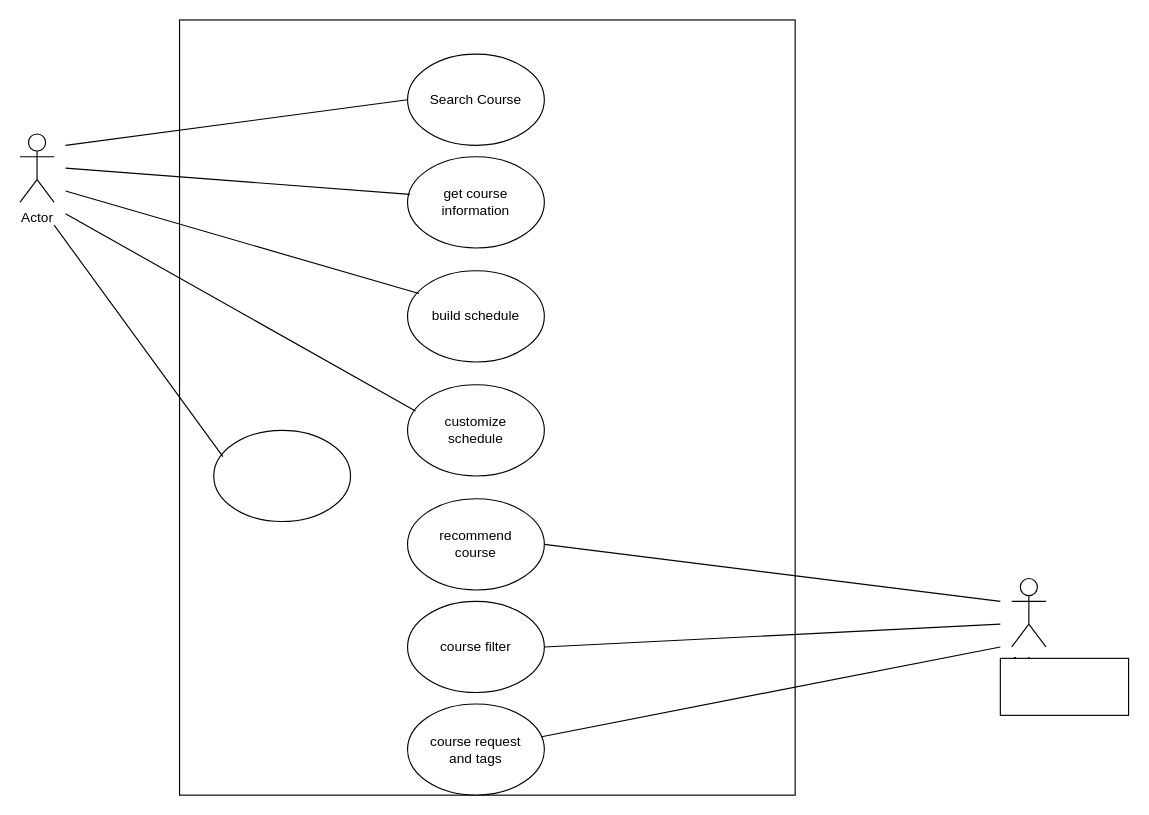
The diagram is 1149 pixels wide and 815 high, and some of its shapes have lost their labels. The centre of each missing label's shape, as x and y in pixels:
get recommendation: point (282, 475)
Recommdation System: point (1064, 686)
